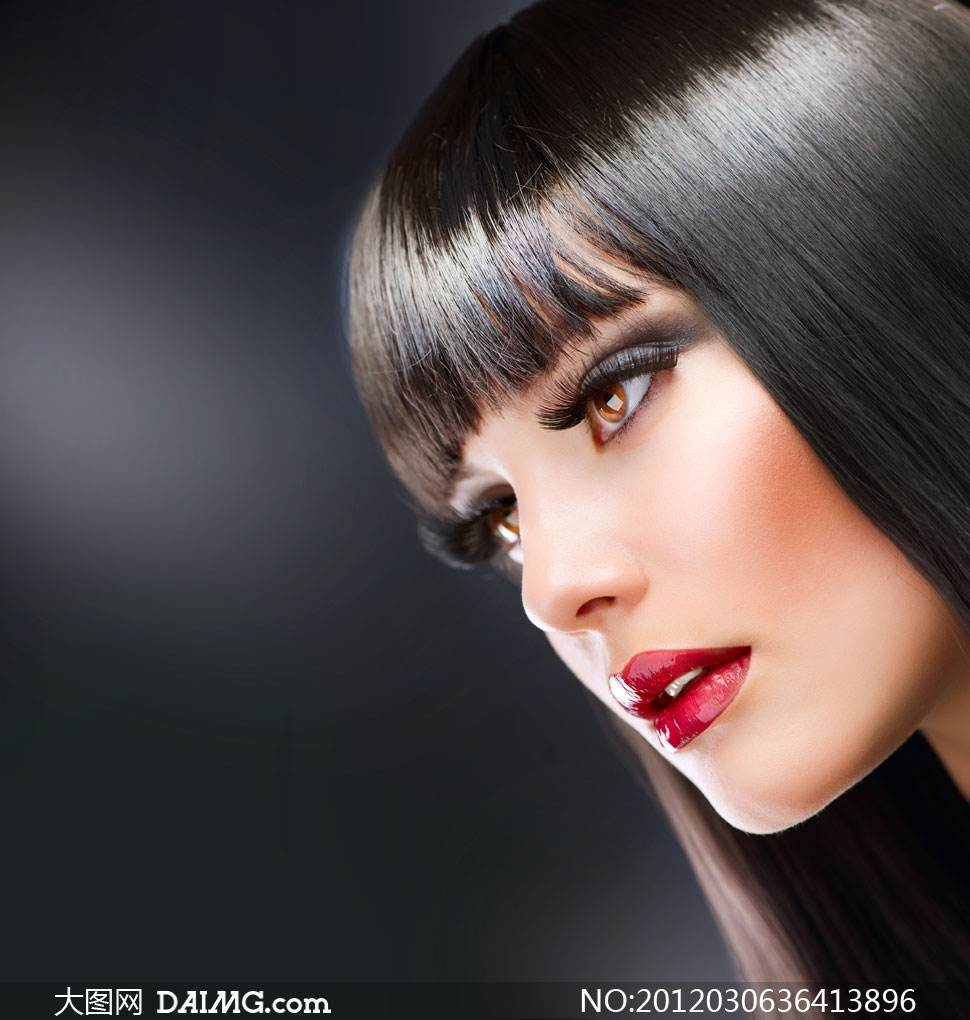person: (208, 18, 970, 856)
